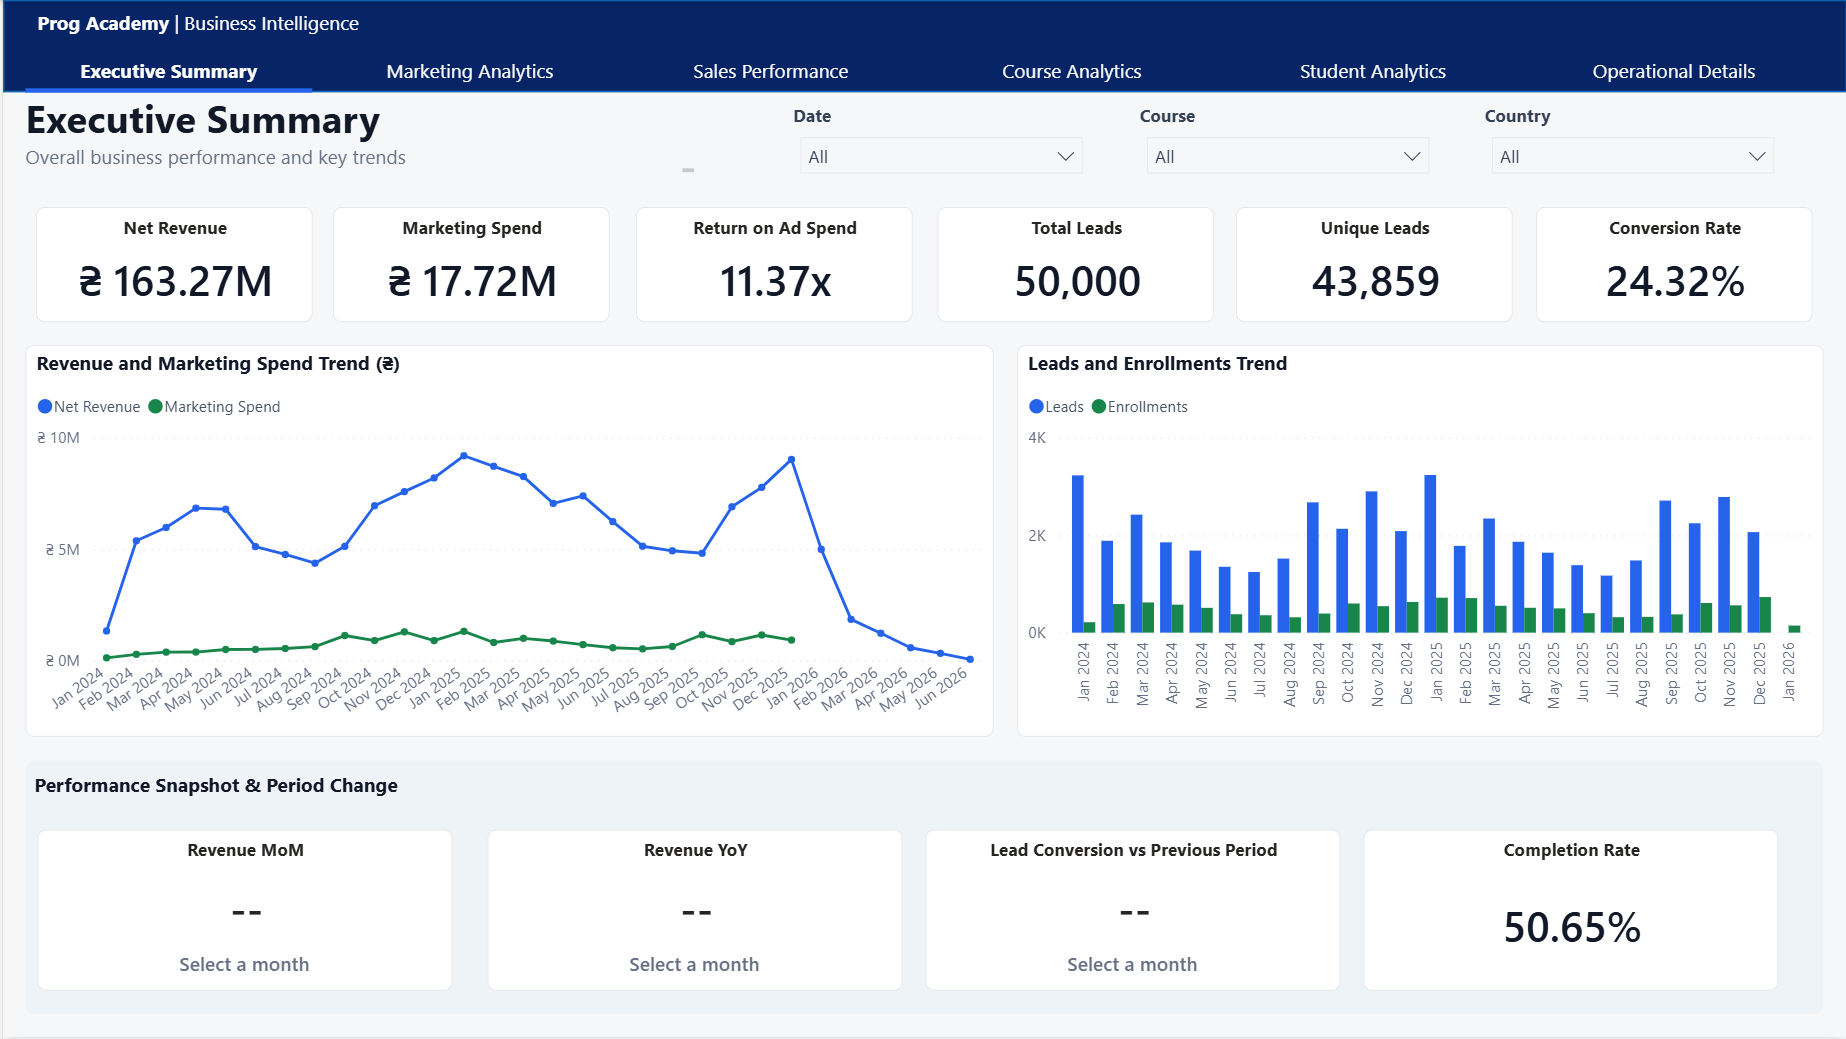

What the dashboard file says about the page in this screenshot:
{"tool":"powerbi","page":{"name":"Executive Summary","canvas":[1280,720],"ordinal":0},"visuals":[{"type":"shape","box":[0,0,1280,64],"z":0},{"type":"textbox","box":[24,6,260,28],"z":1000},{"type":"textbox","title":"Executive Summary","box":[16,64,464,56],"z":8000},{"type":"slicer","title":"Date","fields":{"Values":["DimDate.Year","DimDate.MonthName"]},"box":[543.8,72,216,60],"z":10000},{"type":"slicer","title":"Country","fields":{"Values":["DimGeography.CountryNormalized"]},"box":[1023.8,72,216,60],"z":11000},{"type":"slicer","title":"Course","fields":{"Values":["DimCourse.CourseName"]},"box":[783.8,72,216,60],"z":12000},{"type":"cardVisual","title":"Net Revenue","fields":{"Data":["_Measures.Net Revenue"]},"box":[23,143.8,192,80],"z":13000},{"type":"cardVisual","title":"Marketing Spend","fields":{"Data":["_Measures.Allocated Marketing Spend"]},"box":[229,144,192,80],"z":14000},{"type":"cardVisual","title":"Return on Ad Spend","fields":{"Data":["_Measures.Allocated Return on Ad Spend"]},"box":[439,143.8,192,80],"z":15000},{"type":"cardVisual","title":"Total Leads","fields":{"Data":["_Measures.Total Leads"]},"box":[649,144,192,80],"z":16000},{"type":"cardVisual","title":"Conversion Rate","fields":{"Data":["_Measures.Conversion Rate"]},"box":[859,144,192,80],"z":17000},{"type":"cardVisual","title":"Current Active Students","fields":{"Data":["_Measures.Active Students"]},"box":[1067,144,192,80],"z":18000},{"type":"lineChart","title":"Revenue and Marketing Spend Trend (₴)","fields":{"Category":["DimDate.MonthYear"],"Y":["_Measures.Net Revenue","_Measures.Allocated Marketing Spend"]},"box":[16,240,672,272],"z":19000},{"type":"lineClusteredColumnComboChart","title":"Leads and Enrollments Trend","fields":{"Category":["DimDate.MonthYear"],"Y":["_Measures.Total Leads","_Measures.Enrollments"]},"box":[704,240,560,272],"z":20000},{"type":"shape","box":[16,528,1248,176],"z":21000},{"type":"textbox","box":[22,535,336,22],"z":22000},{"type":"cardVisual","title":"Revenue MoM","fields":{"Data":["_Measures.Revenue MoM %"]},"box":[24,576,288,112],"z":23000},{"type":"cardVisual","title":"Revenue YoY","fields":{"Data":["_Measures.Revenue YoY %"]},"box":[336,576,288,112],"z":24000},{"type":"cardVisual","title":"Lead Conversion vs Previous Period","fields":{"Data":["_Measures.Lead Conversion vs Previous Period"]},"box":[640,576,288,112],"z":25000},{"type":"cardVisual","title":"Completion Rate","fields":{"Data":["_Measures.Completion Rate"]},"box":[944,576,288,112],"z":26000},{"type":"pageNavigator","box":[16,32,1248,32],"z":27000}]}

Visuals, with their boxes in screenshot pixels (x1, y1, x2, y2), scaled from the page's 1280x720 canvas onto the 1846x1039 screenshot:
shape: pyautogui.locateOnScreen(0, 0, 1845, 92)
textbox: pyautogui.locateOnScreen(35, 9, 410, 49)
"Executive Summary" textbox: pyautogui.locateOnScreen(23, 92, 692, 173)
"Date" slicer: pyautogui.locateOnScreen(784, 104, 1096, 190)
"Country" slicer: pyautogui.locateOnScreen(1477, 104, 1788, 190)
"Course" slicer: pyautogui.locateOnScreen(1130, 104, 1442, 190)
"Net Revenue" cardVisual: pyautogui.locateOnScreen(33, 208, 310, 323)
"Marketing Spend" cardVisual: pyautogui.locateOnScreen(330, 208, 607, 323)
"Return on Ad Spend" cardVisual: pyautogui.locateOnScreen(633, 208, 910, 323)
"Total Leads" cardVisual: pyautogui.locateOnScreen(936, 208, 1213, 323)
"Conversion Rate" cardVisual: pyautogui.locateOnScreen(1239, 208, 1516, 323)
"Current Active Students" cardVisual: pyautogui.locateOnScreen(1539, 208, 1816, 323)
"Revenue and Marketing Spend Trend (₴)" lineChart: pyautogui.locateOnScreen(23, 346, 992, 739)
"Leads and Enrollments Trend" lineClusteredColumnComboChart: pyautogui.locateOnScreen(1015, 346, 1823, 739)
shape: pyautogui.locateOnScreen(23, 762, 1823, 1016)
textbox: pyautogui.locateOnScreen(32, 772, 516, 804)
"Revenue MoM" cardVisual: pyautogui.locateOnScreen(35, 831, 450, 993)
"Revenue YoY" cardVisual: pyautogui.locateOnScreen(485, 831, 900, 993)
"Lead Conversion vs Previous Period" cardVisual: pyautogui.locateOnScreen(923, 831, 1338, 993)
"Completion Rate" cardVisual: pyautogui.locateOnScreen(1361, 831, 1777, 993)
pageNavigator: pyautogui.locateOnScreen(23, 46, 1823, 92)
